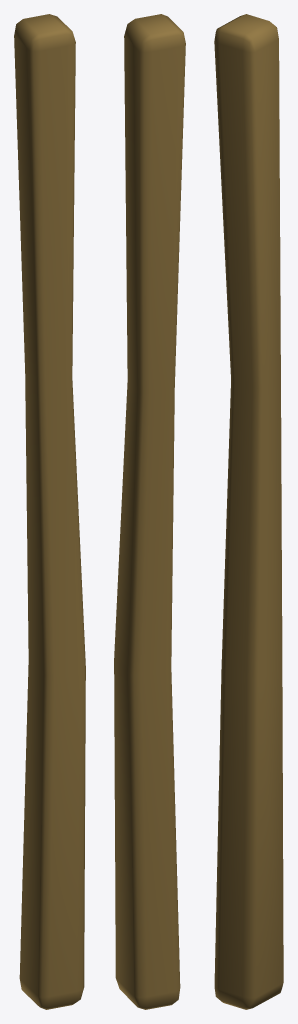
File: Pole.fbx
3 views of the same model, side by side, from view 1: azimuth 30°, elevation 25°; view 2: azimuth 210°, elevation 25°; view 3: azimuth 330°, elevation 25° (orthographic).
Parts seen in each view (by area): view 1: HighResTRack.024; view 2: HighResTRack.024; view 3: HighResTRack.024.
Boxes of the visible parts, left/top/right/bottom form: HighResTRack.024: left=14, top=14, right=85, bottom=1009; HighResTRack.024: left=114, top=14, right=185, bottom=1009; HighResTRack.024: left=214, top=14, right=283, bottom=1009.
Bounding box in the file's own units: 143 × 2452 × 140.
